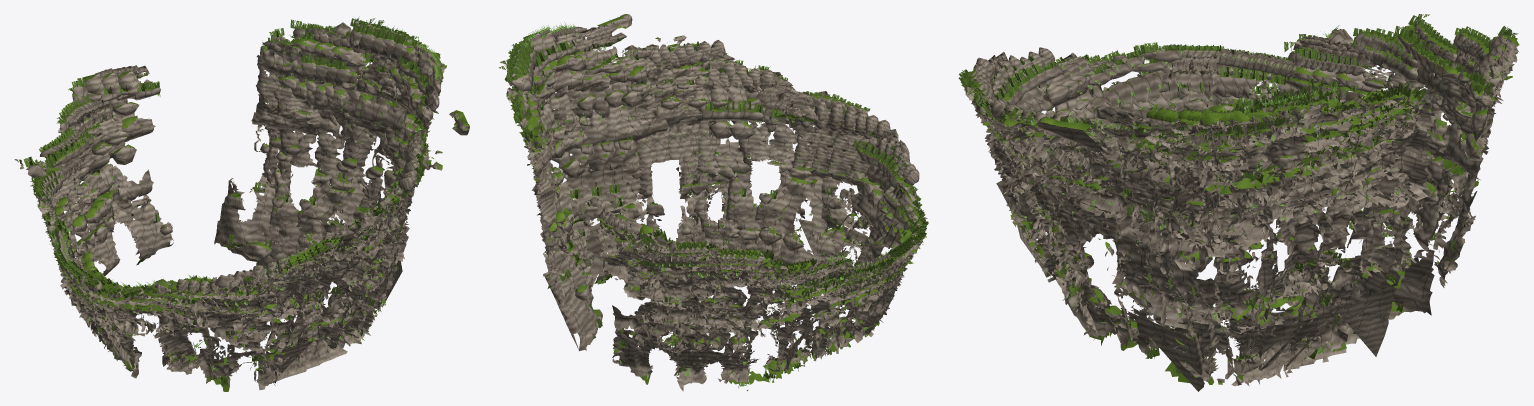
Rendered from craterwall_set.glb.
3 renders of one model, left to right at view 1: azimuth 30°, elevation 25°; view 2: azimuth 150°, elevation 25°; view 3: azimuth 270°, elevation 25°, orthographic. The views are drawn at different scales.
Visible parts, largest first — view 1: crater_rock_mesh, crater_moss_mesh, crater_grass_mesh, crater_leaf_mesh; view 2: crater_rock_mesh, crater_moss_mesh, crater_grass_mesh, crater_leaf_mesh; view 3: crater_rock_mesh, crater_moss_mesh, crater_grass_mesh, crater_leaf_mesh.
Part boxes in pixels (x1,y1,x2,y2): crater_rock_mesh: (20,21,469,390); crater_moss_mesh: (20,20,469,391); crater_grass_mesh: (14,18,439,386); crater_leaf_mesh: (37,17,461,370); crater_rock_mesh: (506,14,925,391); crater_moss_mesh: (504,14,926,384); crater_grass_mesh: (498,37,928,384); crater_leaf_mesh: (508,20,926,386); crater_rock_mesh: (961,21,1518,391); crater_moss_mesh: (962,20,1519,384); crater_grass_mesh: (958,14,1518,374); crater_leaf_mesh: (967,25,1506,363).
Bounding box in the file's own units: 38.7 × 24.71 × 38.24.
Materials: 4 (4 with a texture image).
